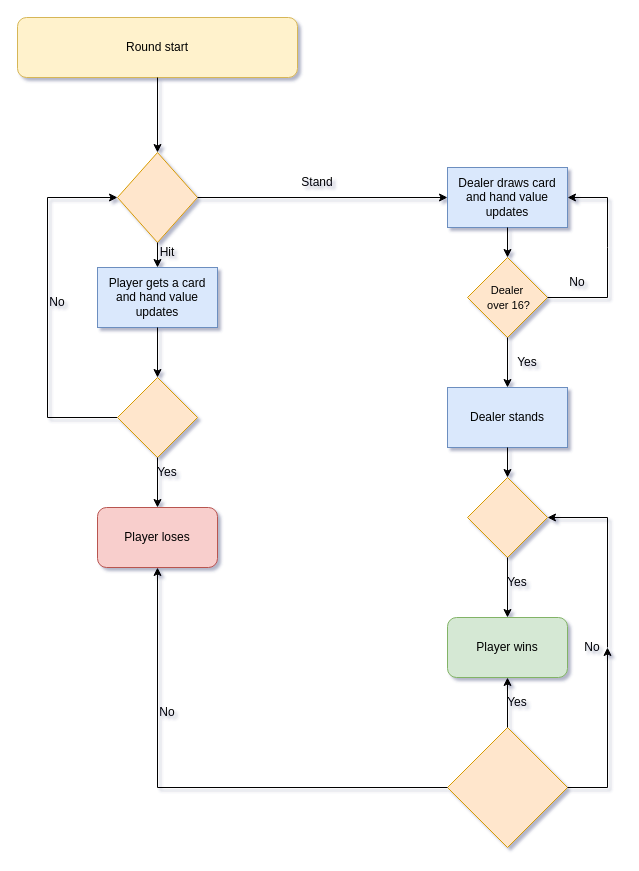
This 639x871 diagram has some shape labels left out. The shapes that lost their labels are listed below. From the top down, each one's box as (x1, y1, x2, y2) in pixels, then its label:
(116, 152, 198, 242): Hit or stand?
(116, 376, 198, 458): Player busted?
(466, 476, 548, 558): Dealer busted?
(446, 726, 568, 848): Player's hand higher than dealer's hand?
